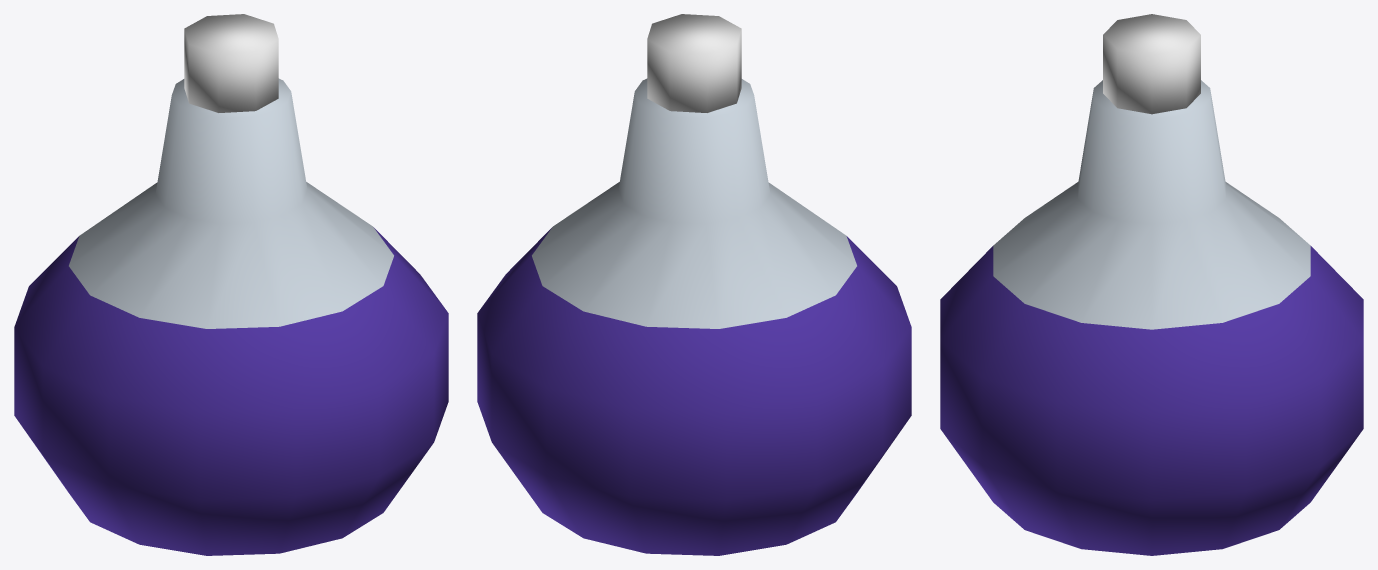
The model's file is twilight_hair_dye.glb.
3 views of the same model, side by side, from view 1: azimuth 30°, elevation 25°; view 2: azimuth 150°, elevation 25°; view 3: azimuth 270°, elevation 25° (orthographic).
Parts seen in each view (by area): view 1: twilight_hair_dye_v0; view 2: twilight_hair_dye_v0; view 3: twilight_hair_dye_v0.
Part boxes in pixels (bbox=[...]): twilight_hair_dye_v0: bbox=[14, 14, 448, 555]; twilight_hair_dye_v0: bbox=[477, 14, 911, 555]; twilight_hair_dye_v0: bbox=[940, 14, 1363, 555].
Size of the model in its own units: 0.24 by 0.276 by 0.234.
